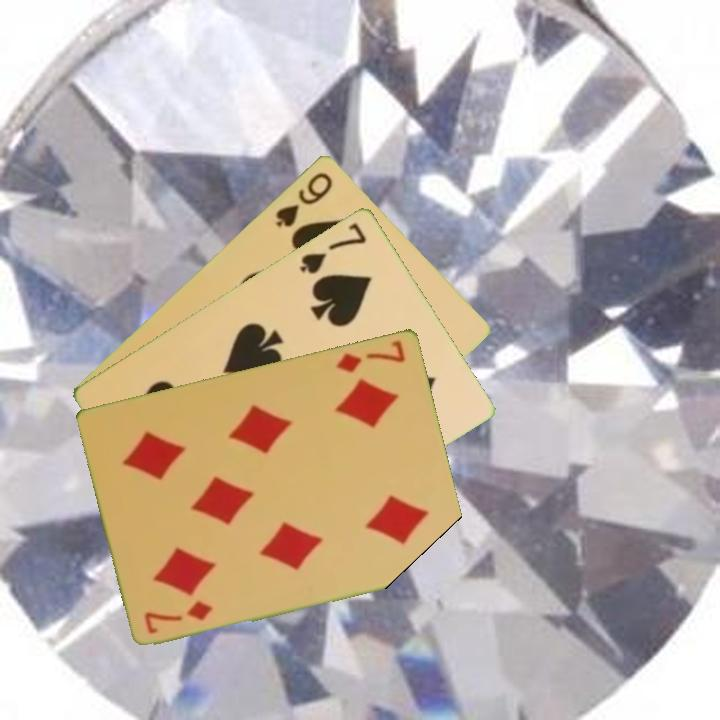7d: (141, 596, 216, 637), (333, 336, 409, 375)
7s: (296, 218, 370, 277)
9s: (271, 168, 336, 230)
